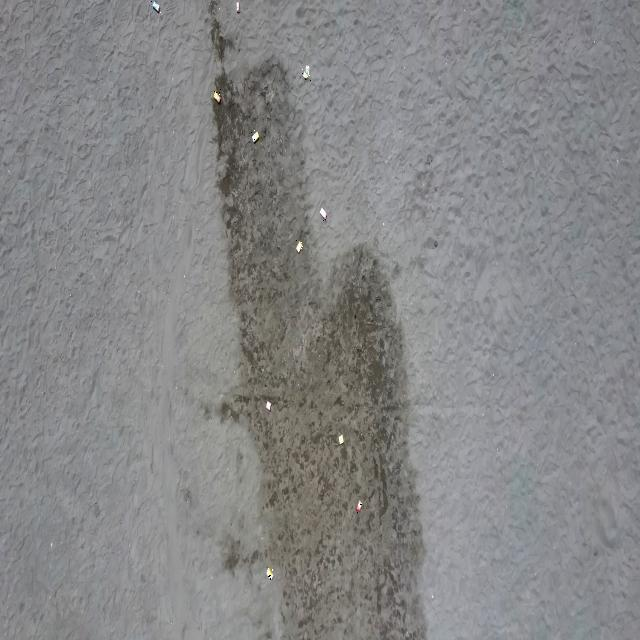retort-pouch: (302, 63, 311, 81), (150, 0, 160, 15), (251, 128, 260, 144), (213, 89, 222, 104), (319, 206, 328, 221), (295, 240, 303, 254), (266, 567, 274, 581), (356, 498, 362, 514), (338, 432, 344, 446), (236, 0, 241, 15), (266, 400, 272, 412)
